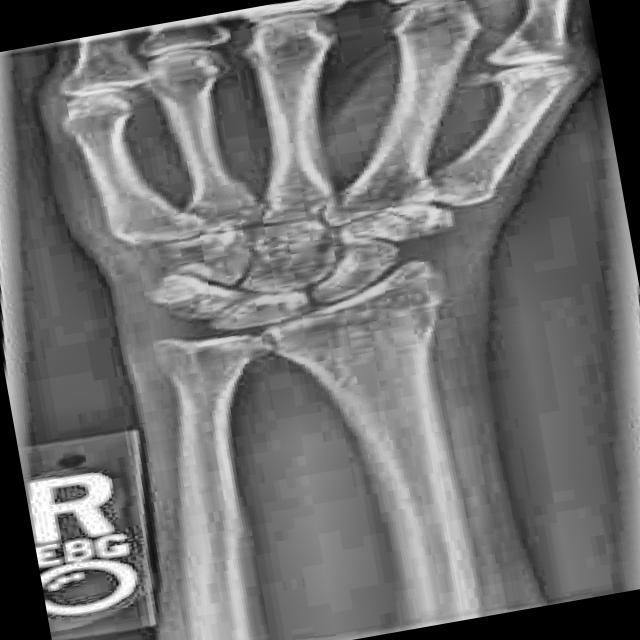wrist positive: (372, 278, 478, 347), (406, 209, 477, 244)
